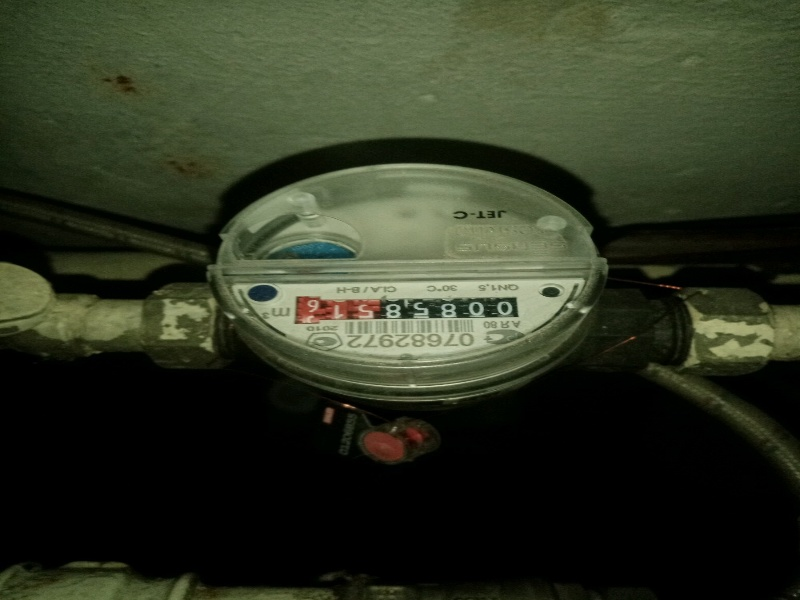dial: (290, 289, 537, 322)
